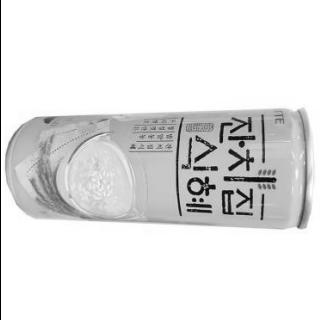alumunium_can: (2, 100, 315, 234)
